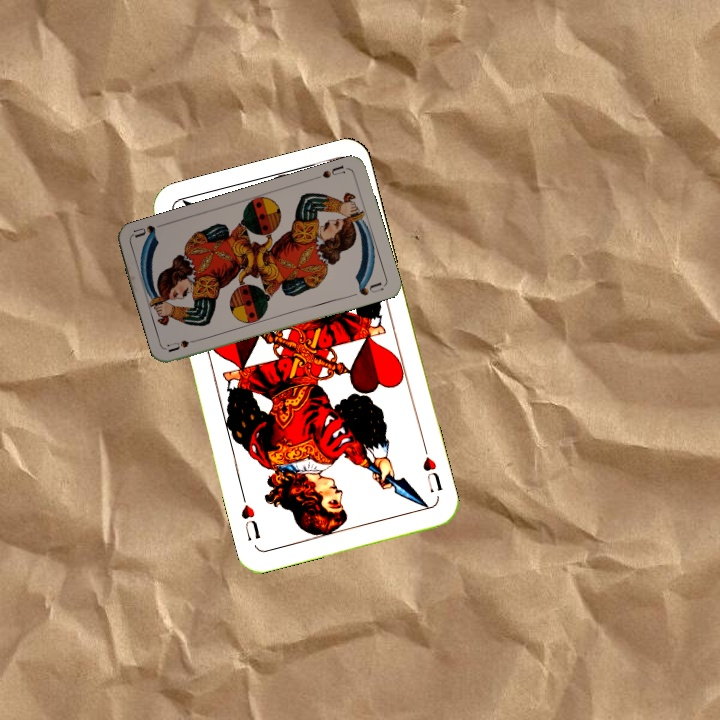HU: (418, 452, 445, 495)
SU: (164, 334, 205, 355), (318, 161, 350, 181)
